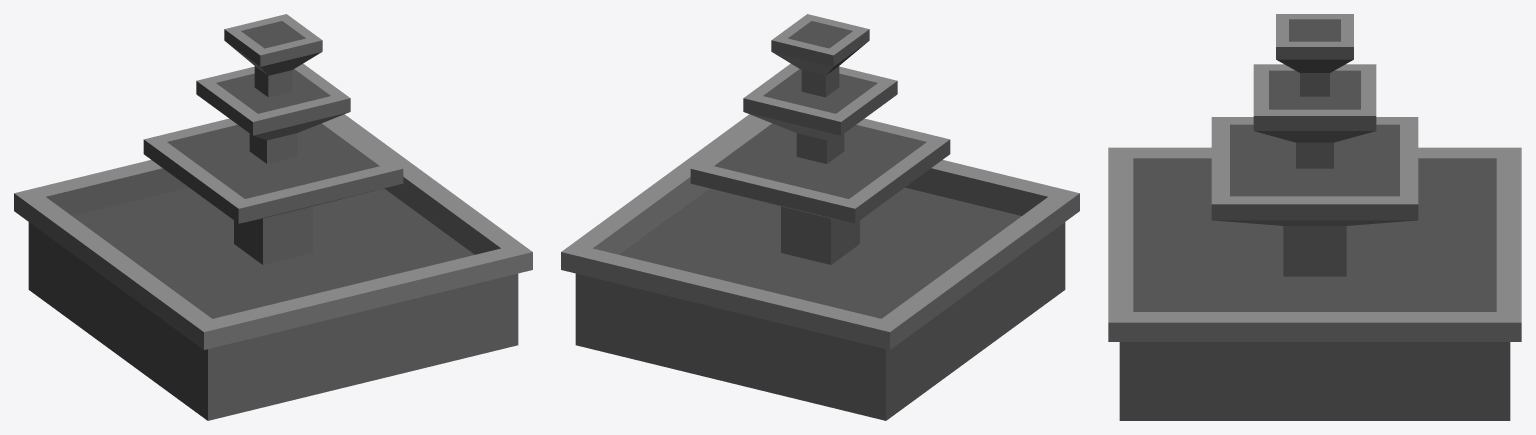
The model's file is SM_Fountain_Empty_01.fbx.
3 views of the same model, side by side, from view 1: azimuth 30°, elevation 25°; view 2: azimuth 150°, elevation 25°; view 3: azimuth 270°, elevation 25° (orthographic). The views are drawn at different scales.
Visible parts, largest first — view 1: SM_Fountain_Empty_01; view 2: SM_Fountain_Empty_01; view 3: SM_Fountain_Empty_01.
Boxes of the visible parts, box(x1,y1,x2,y2) form: SM_Fountain_Empty_01: box(14, 14, 532, 420); SM_Fountain_Empty_01: box(561, 14, 1079, 420); SM_Fountain_Empty_01: box(1108, 14, 1521, 420).
Size of the model in its own units: 3.85 by 3.16 by 3.85.
